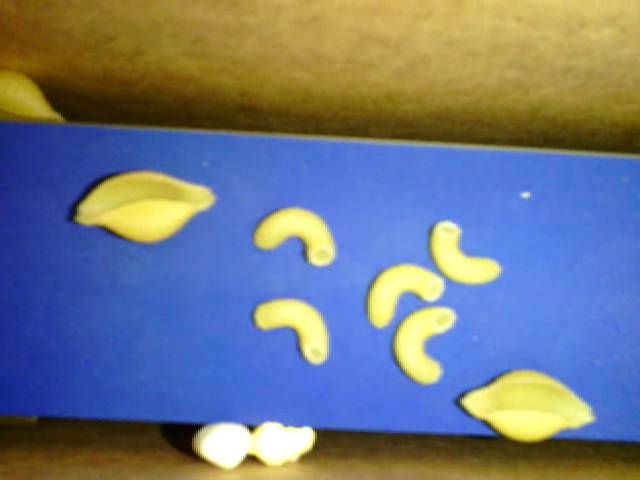elbow: (362, 261, 447, 331), (253, 295, 327, 368), (250, 205, 334, 268), (428, 221, 503, 286), (394, 305, 458, 381)
shell: (69, 169, 218, 244), (460, 368, 595, 444), (3, 66, 68, 129)
